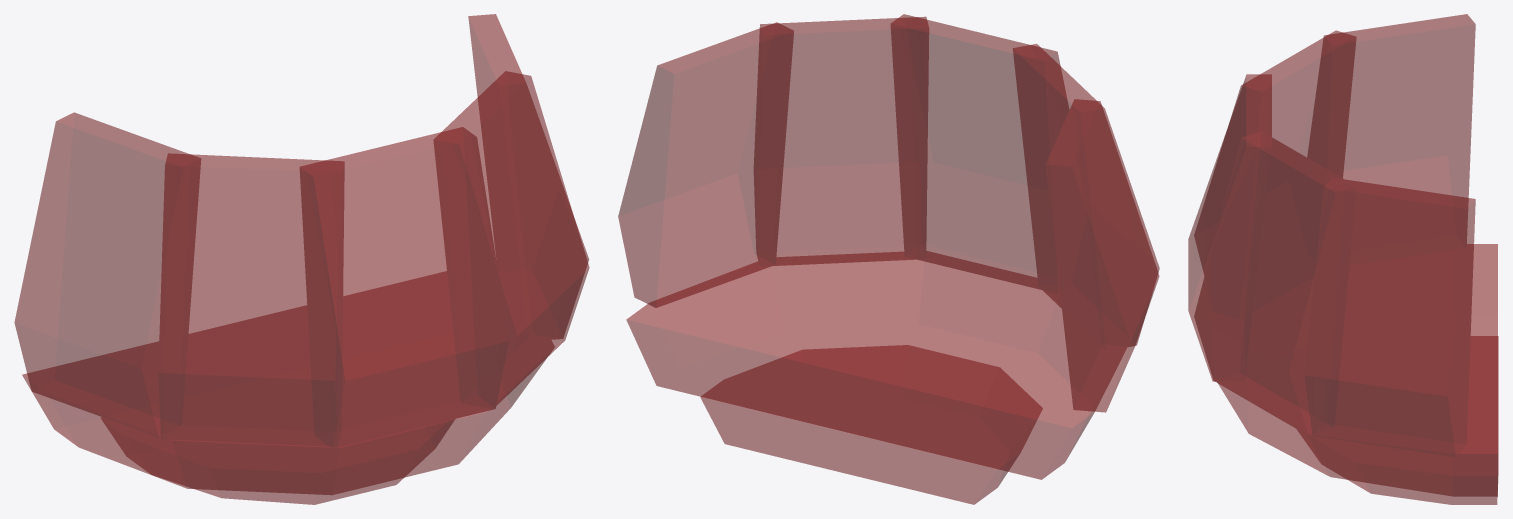
The model's file is SM_Bld_Balcony_01_Collision.fbx.
3 views of the same model, side by side, from view 1: azimuth 30°, elevation 25°; view 2: azimuth 150°, elevation 25°; view 3: azimuth 270°, elevation 25° (orthographic). The views are drawn at different scales.
Parts seen in each view (by area): view 1: SM_Bld_Balcony_01_Collision; view 2: SM_Bld_Balcony_01_Collision; view 3: SM_Bld_Balcony_01_Collision.
Part boxes in pixels (<box>): SM_Bld_Balcony_01_Collision: <box>14,14,589,504</box>; SM_Bld_Balcony_01_Collision: <box>618,14,1159,504</box>; SM_Bld_Balcony_01_Collision: <box>1188,14,1498,504</box>.
Size of the model in its own units: 215 by 139 by 117.
